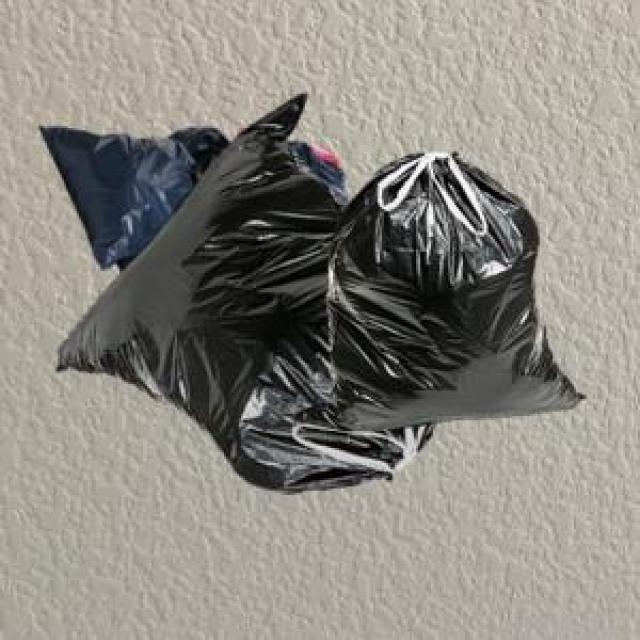miscellaneous trash: (53, 90, 431, 489), (288, 147, 580, 427), (36, 124, 346, 267)
